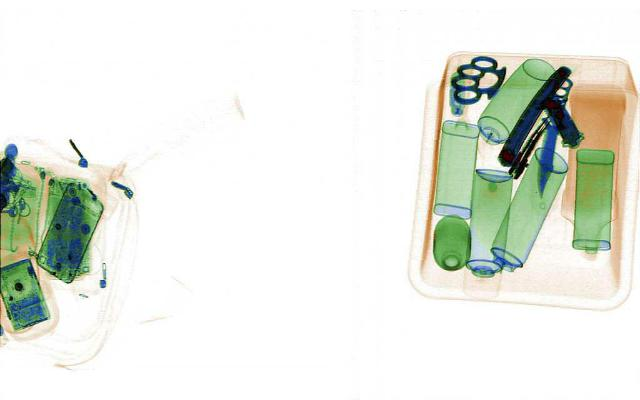Knife: (527, 76, 573, 196)
